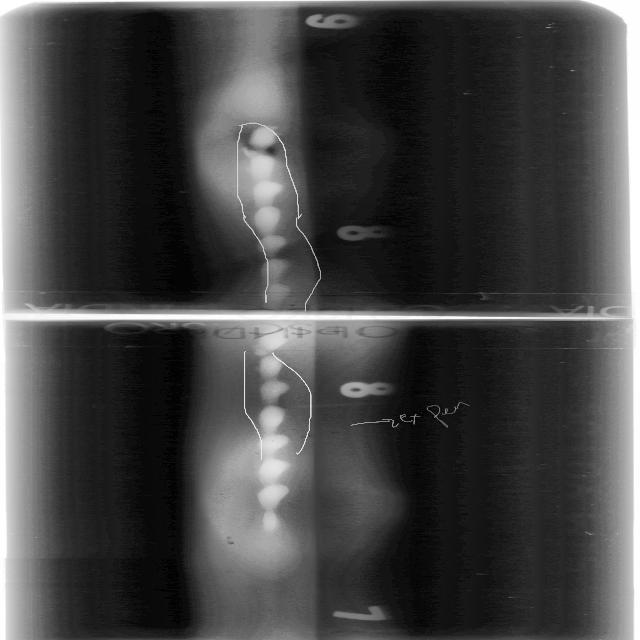LOP: (258, 439, 292, 536), (256, 356, 288, 424), (254, 136, 268, 226)
